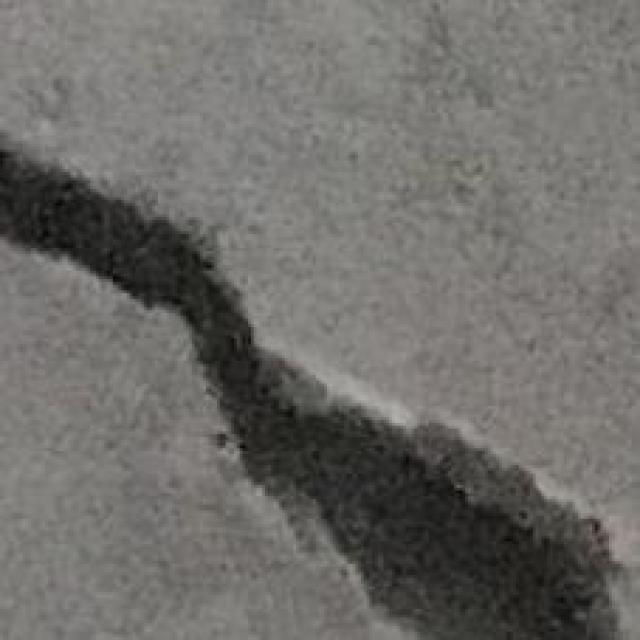Diagonal: (0, 138, 608, 639)
